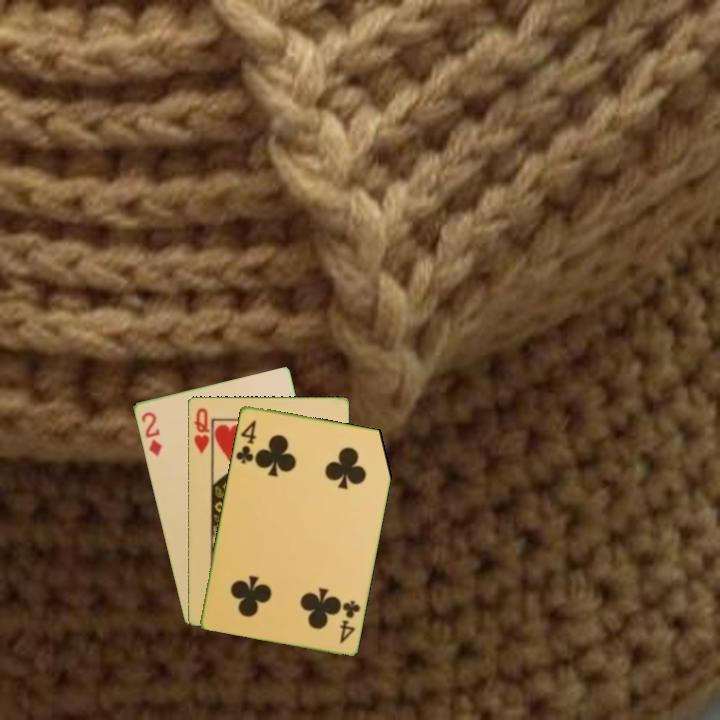2d: (138, 408, 164, 459)
4c: (232, 416, 259, 466), (336, 596, 363, 646)
Qh: (190, 404, 212, 456)
